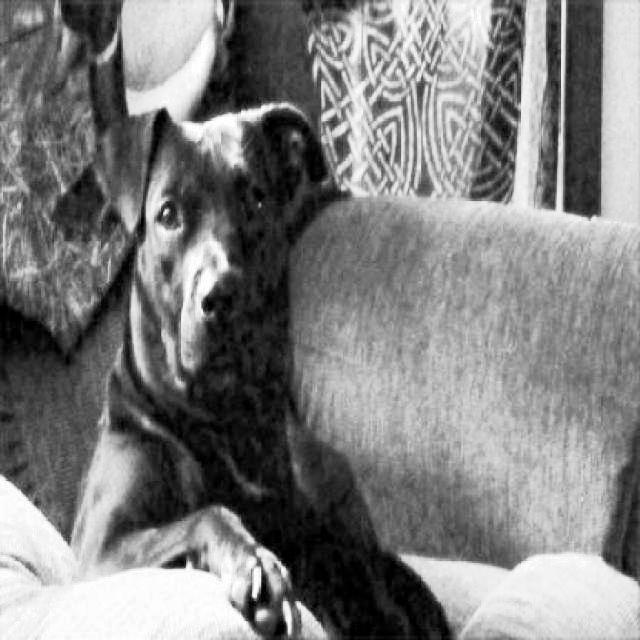Dog: (61, 100, 454, 640)
